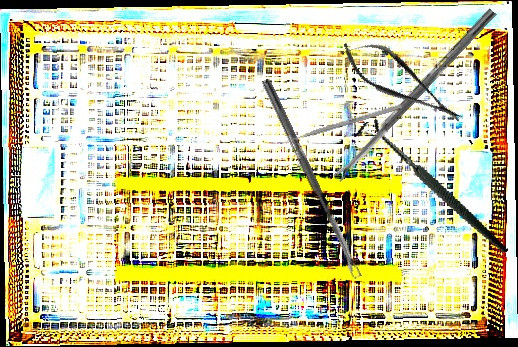Hook Surgical: (353, 92, 509, 286)
Micro Scissor: (333, 26, 471, 139)
Pusher: (280, 103, 402, 146)
Surgical Spoon: (332, 7, 497, 182), (260, 78, 362, 280)
